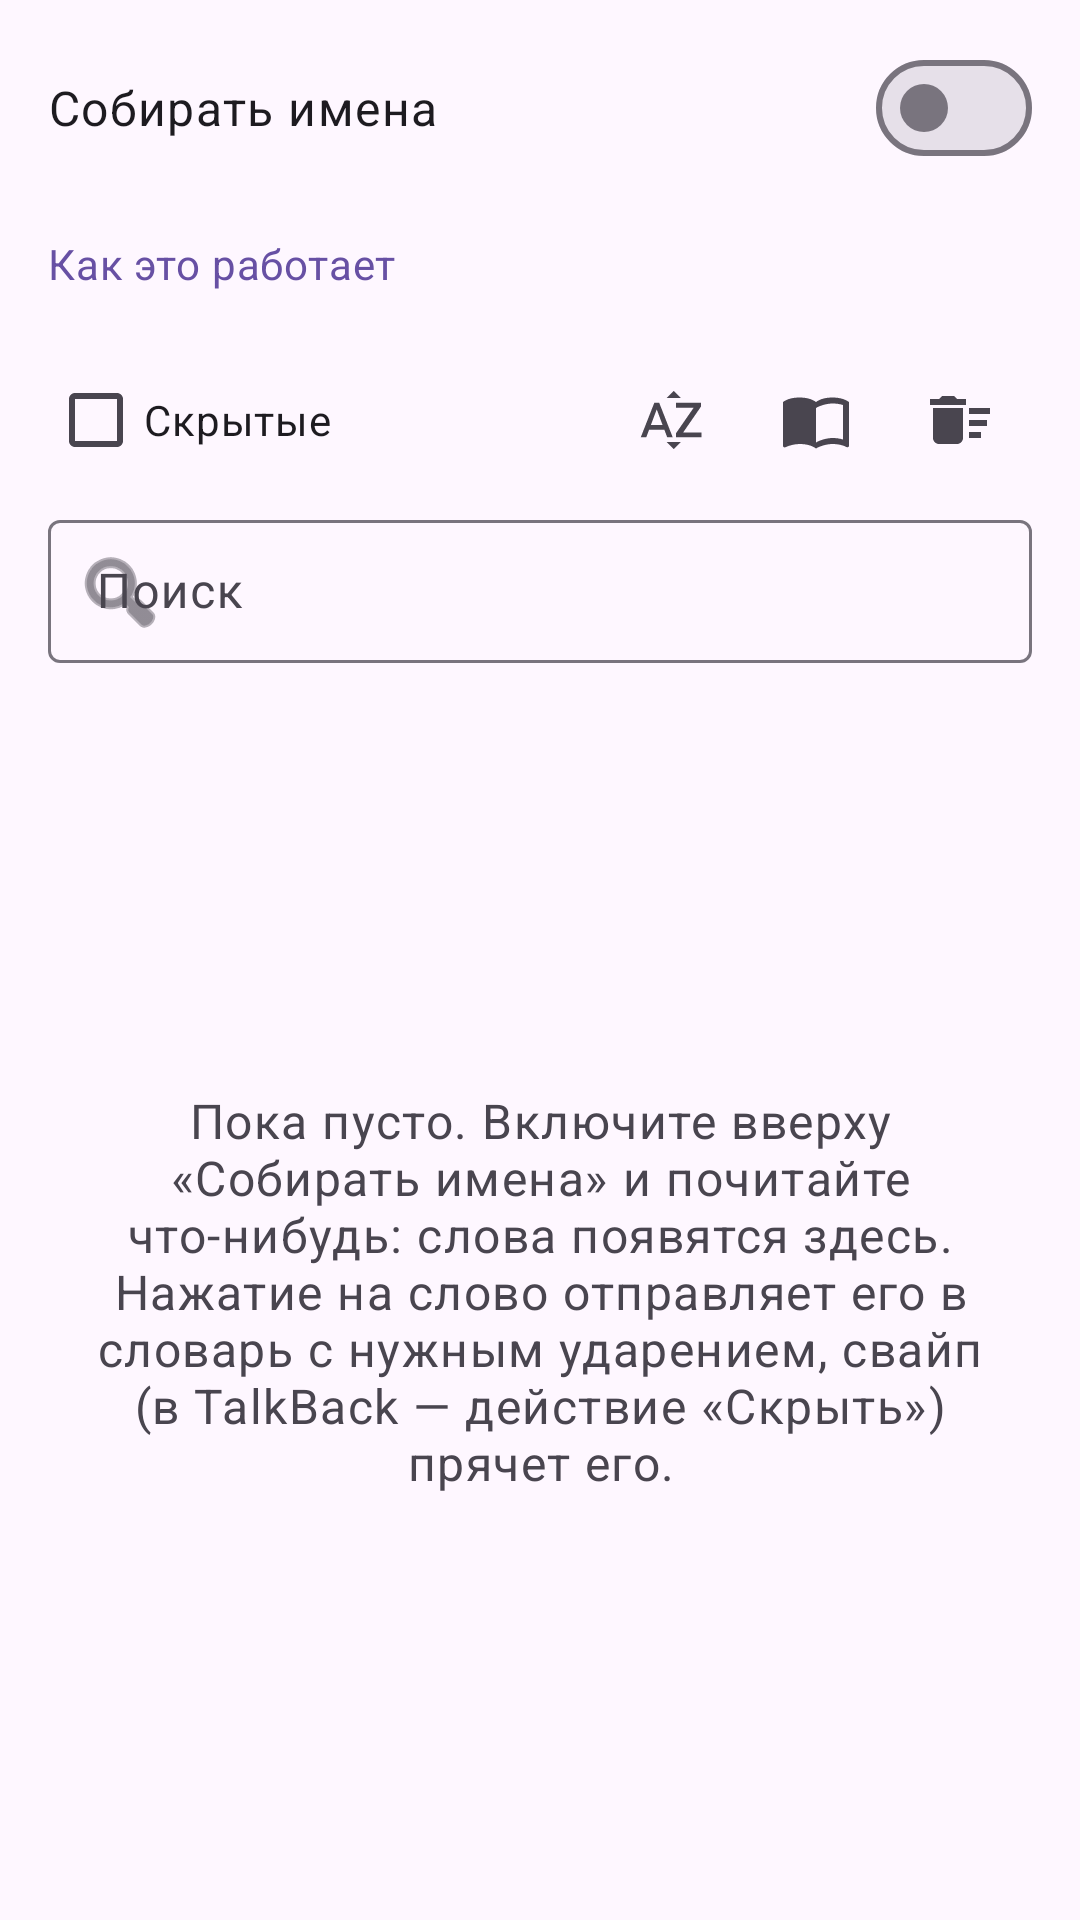

Where icons sit on this 1080x1920 app screen, as (x1, y1, x2, y2):
Имена из книги: (783, 397, 849, 449)
Очистить: (930, 396, 990, 444)
По алфавиту: (641, 391, 702, 449)
